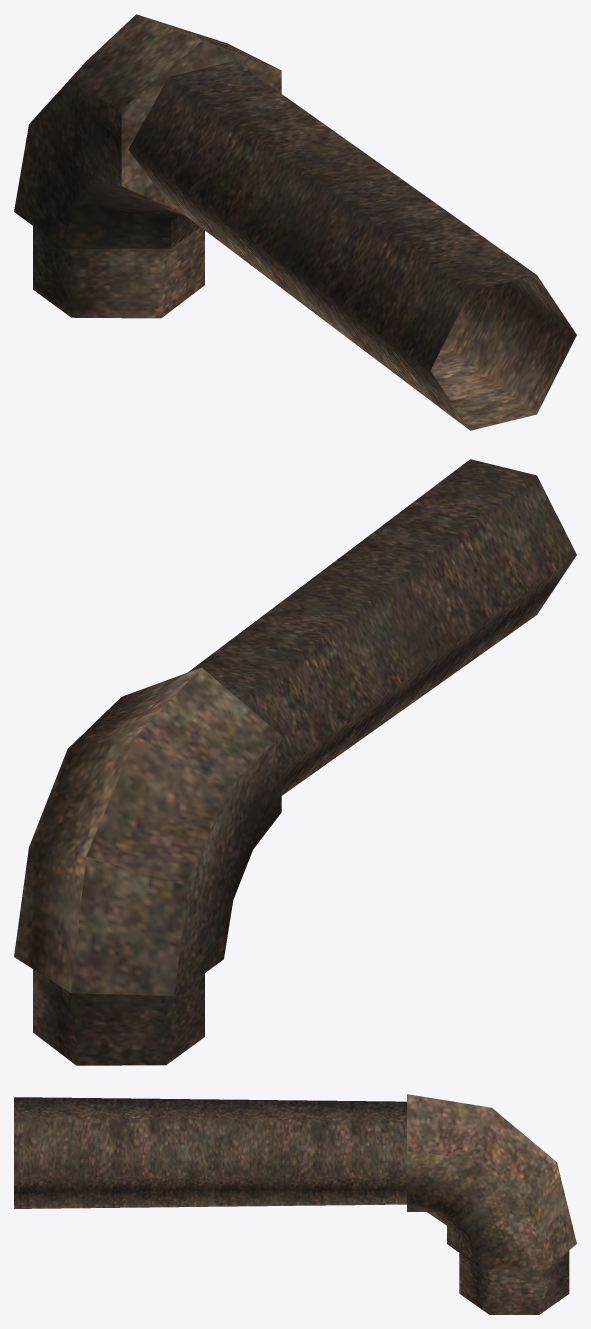
File: pipes_ceiling_l_up.fbx
3 renders of one model, top to bottom at view 1: azimuth 30°, elevation 25°; view 2: azimuth 150°, elevation 25°; view 3: azimuth 270°, elevation 25°, orthographic. The views are drawn at different scales.
Parts seen in each view (by area): view 1: mesh_2, mesh_0, mesh_1; view 2: mesh_0, mesh_2, mesh_1; view 3: mesh_2, mesh_0, mesh_1.
Boxes of the visible parts, x1,y1,x2,y2 form: mesh_2: (128,61,576,430); mesh_0: (14,14,281,248); mesh_1: (33,226,204,318); mesh_0: (14,667,281,995); mesh_2: (188,459,576,795); mesh_1: (33,969,204,1065); mesh_2: (14,1097,406,1208); mesh_0: (407,1094,576,1269); mesh_1: (459,1250,569,1314).
Bounding box in the file's own units: 24 × 44 × 113.
Materials: 1 (1 with a texture image).
